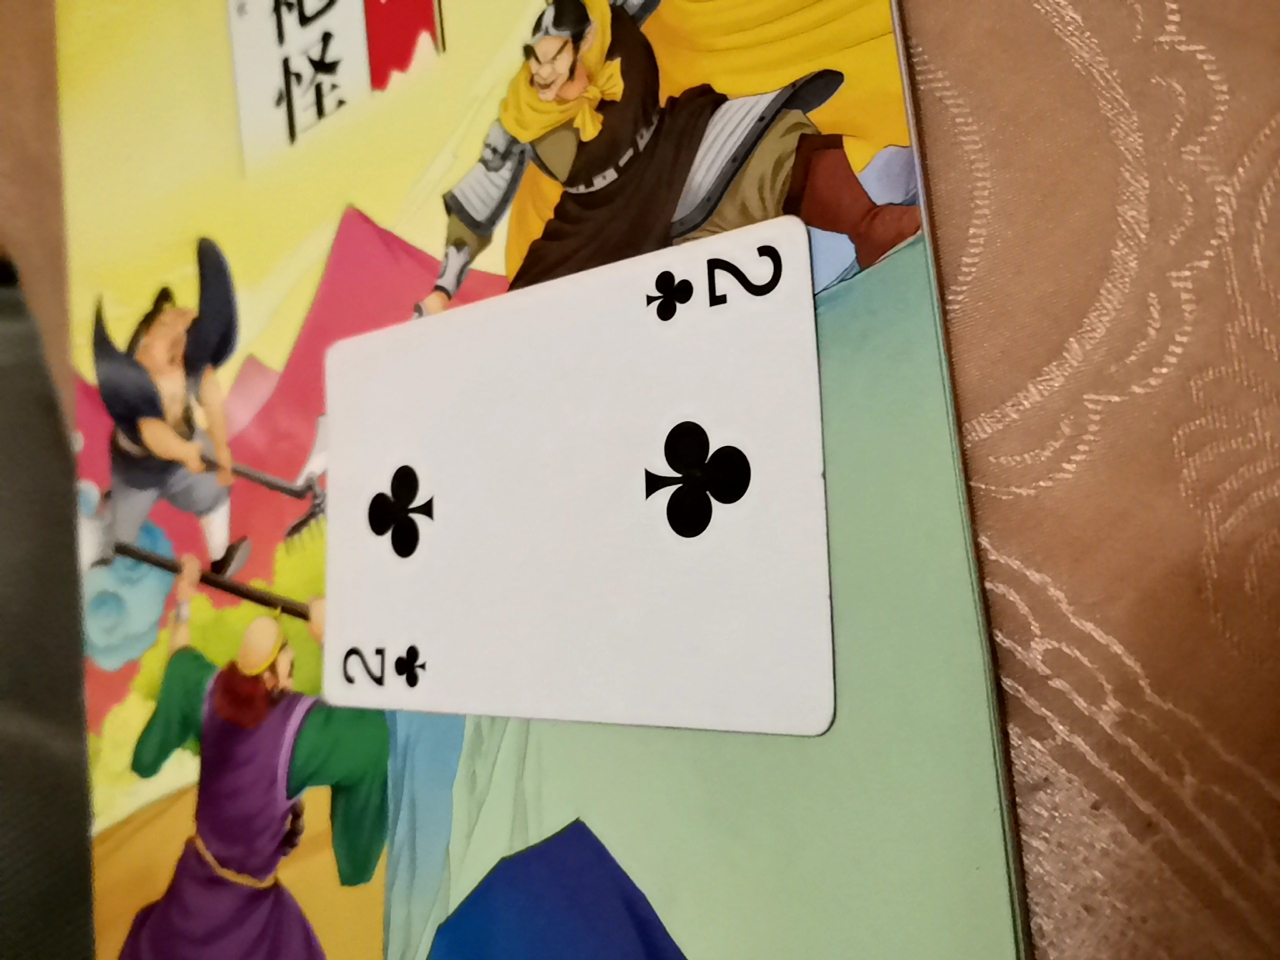mh 2: (308, 226, 836, 746)
